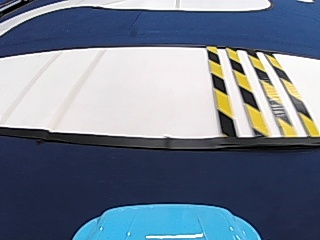bump: (186, 44, 295, 132)
